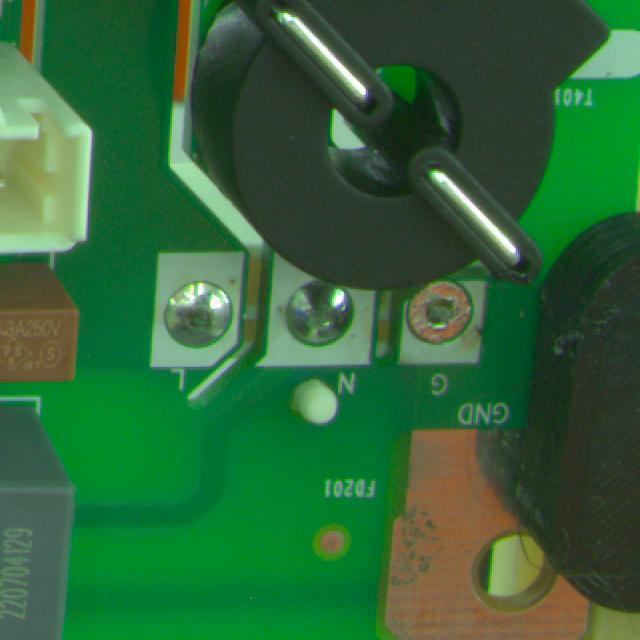Insufficient solder: (414, 267, 483, 346)
